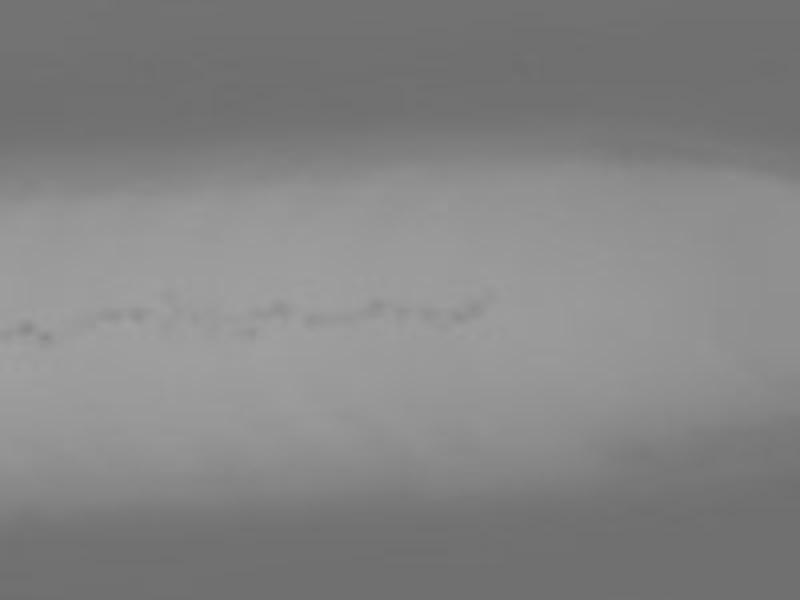defect: (300, 309, 326, 331), (364, 297, 386, 319), (269, 297, 292, 318), (466, 295, 487, 317), (415, 305, 436, 324), (448, 305, 466, 327), (96, 306, 120, 322), (15, 316, 35, 333), (39, 326, 59, 342), (129, 306, 148, 321), (393, 304, 411, 317), (245, 324, 259, 336), (4, 328, 13, 340)
